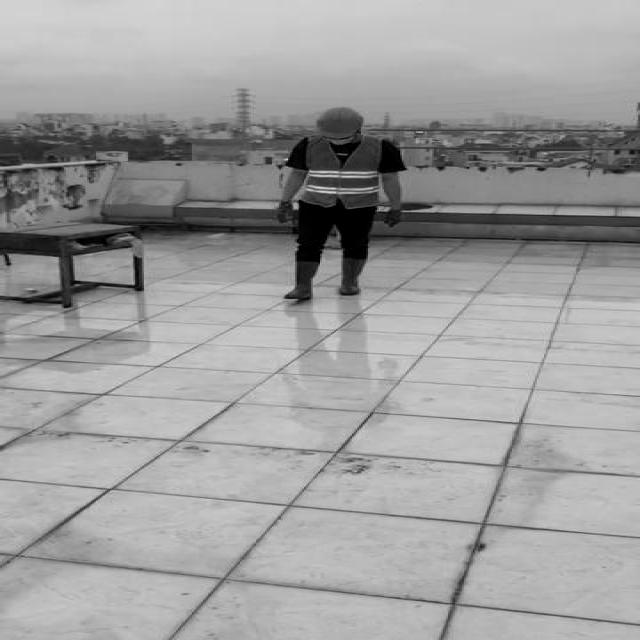boots: (286, 260, 322, 301), (338, 257, 372, 296)
hand_glove: (276, 200, 295, 223), (384, 208, 402, 228)
head_helmet: (316, 105, 364, 138)
person: (265, 106, 409, 302)
vest: (298, 132, 388, 209)
